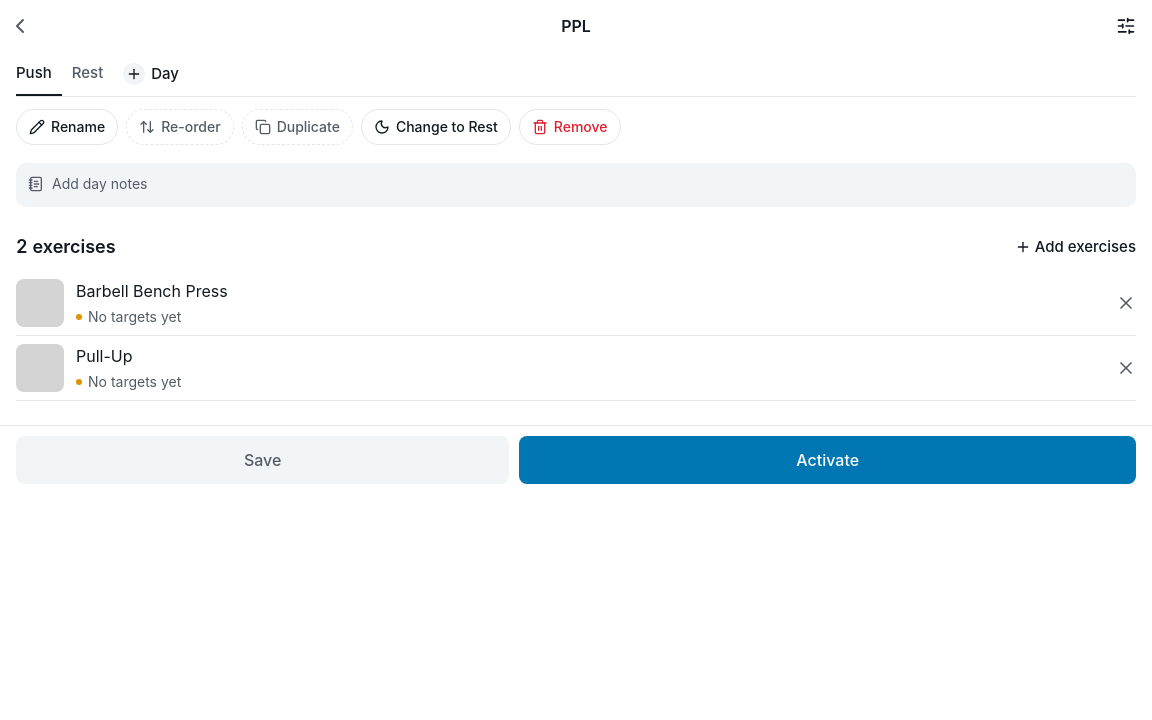
Scenario: ProgramEditorPage - day actions and exercises › Change to Rest confirms, empties the day and switches to the rest body
Expected: the element showing "Push Rest" is shown, 16,52 -> 113,96
Expected: the heading "2 exercises" is shown, 16,233 -> 116,261
Click the button "Change to Rest". click: x=436, y=127
box: 361,105 -> 511,149
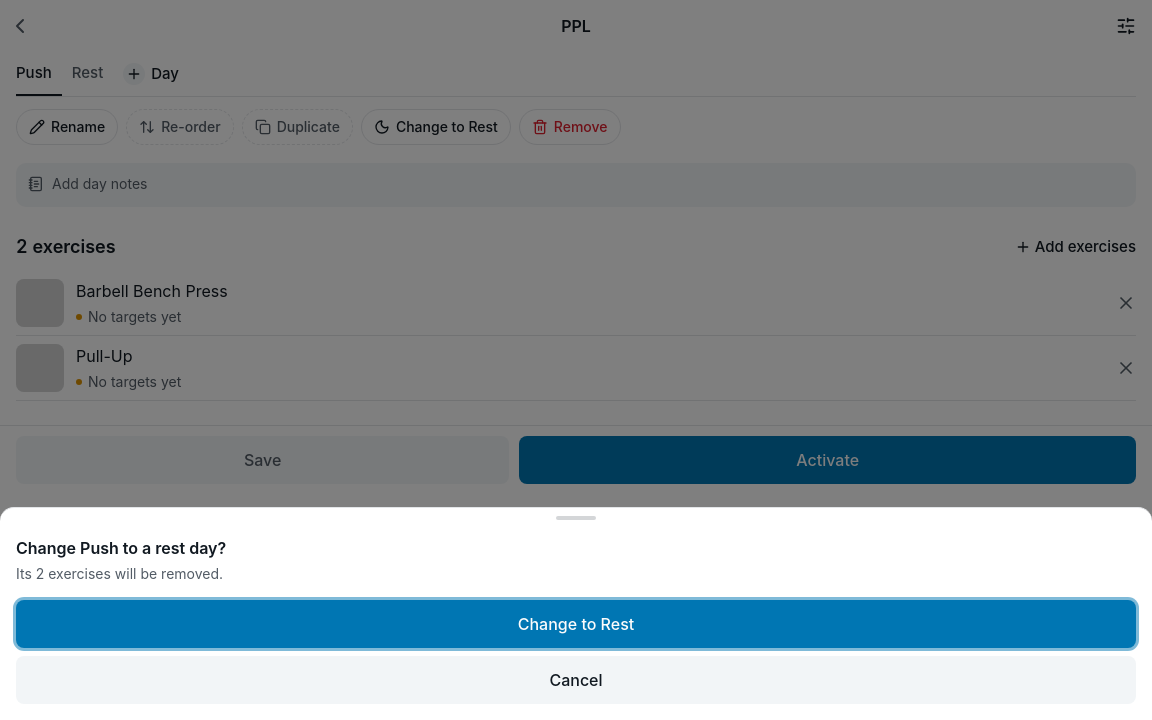
Now the heading "Change Push to a rest day?" is shown, box 16,538 -> 226,558
Click the button "Change to Rest". click: x=576, y=624
box: 16,600 -> 1136,648
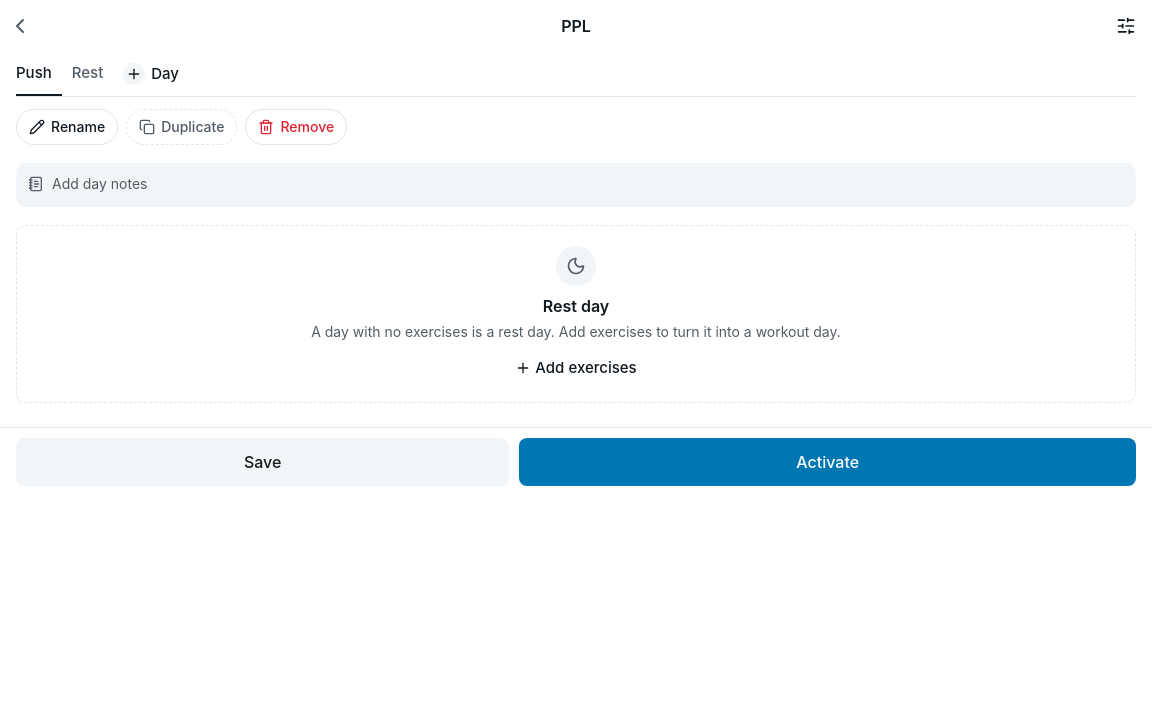
Now the text "Rest day" is shown, box 543,294 -> 609,318
Now the heading "2 exercises" is gone
